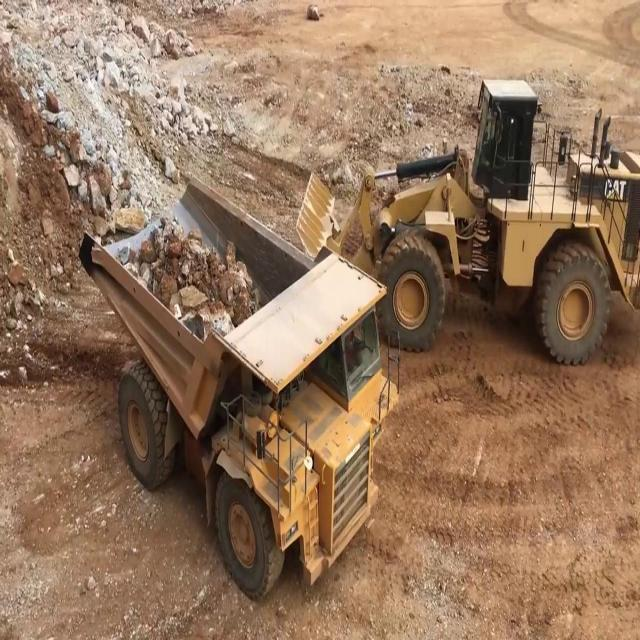Dump Truck: (76, 173, 402, 612)
Loader: (291, 77, 639, 368)
